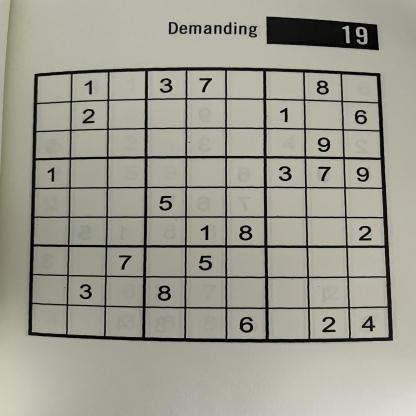sudoku: (23, 65, 397, 344)
